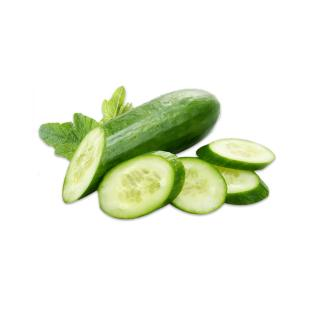Cucumber: (64, 90, 219, 202), (98, 152, 185, 218), (172, 157, 227, 214), (197, 139, 274, 170), (215, 166, 268, 204)
